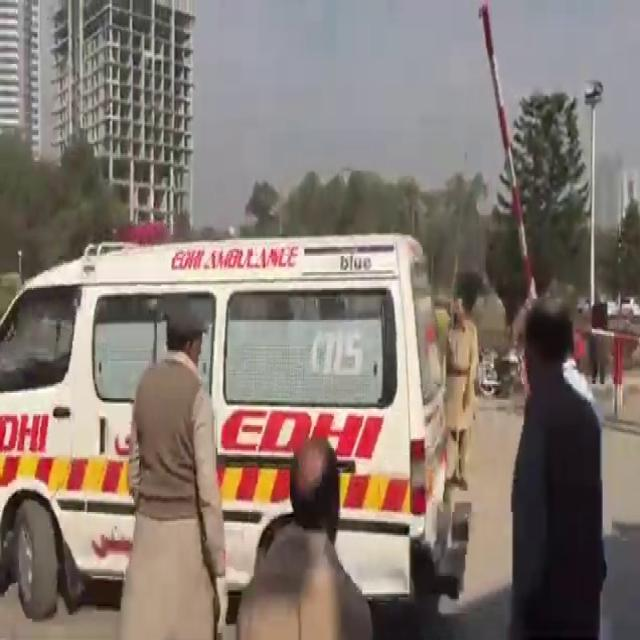ambulance: (2, 236, 438, 592)
